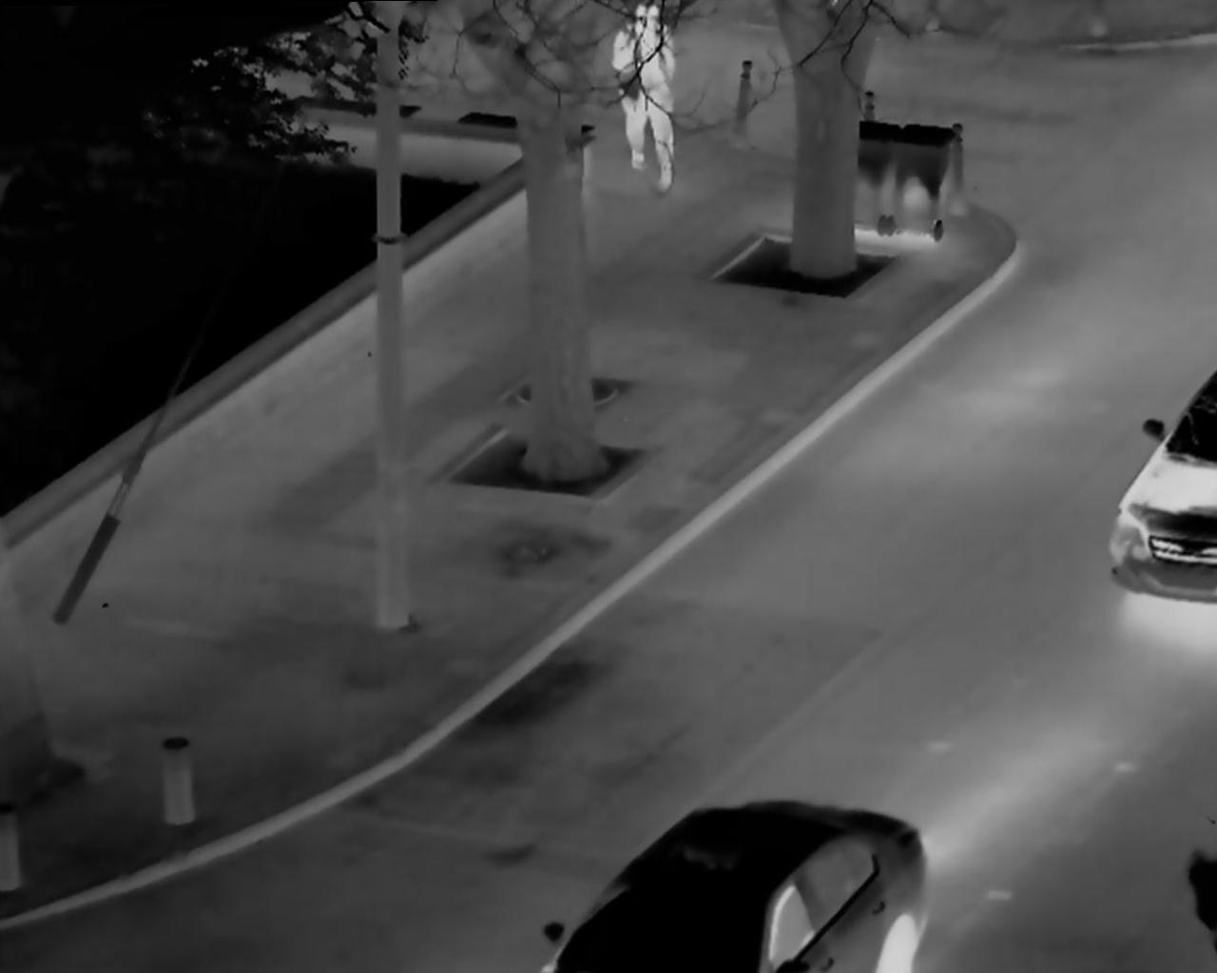person: (607, 2, 690, 199)
